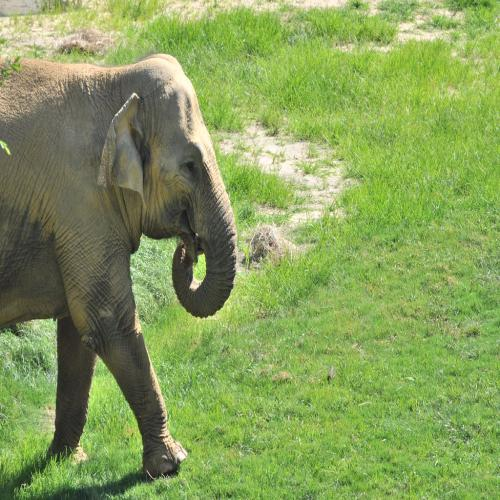asian_elephant-endangered: (0, 47, 236, 463)
